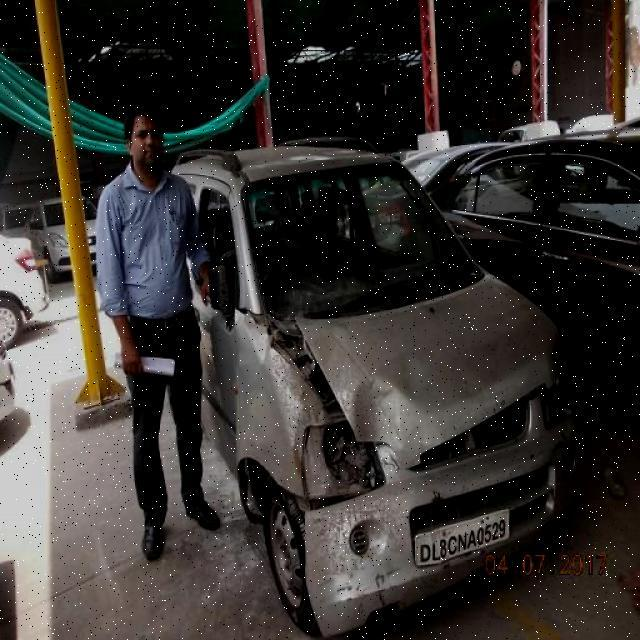car damage: (303, 472, 446, 636), (236, 311, 340, 416), (297, 417, 389, 524), (222, 308, 261, 521), (349, 371, 424, 467)
